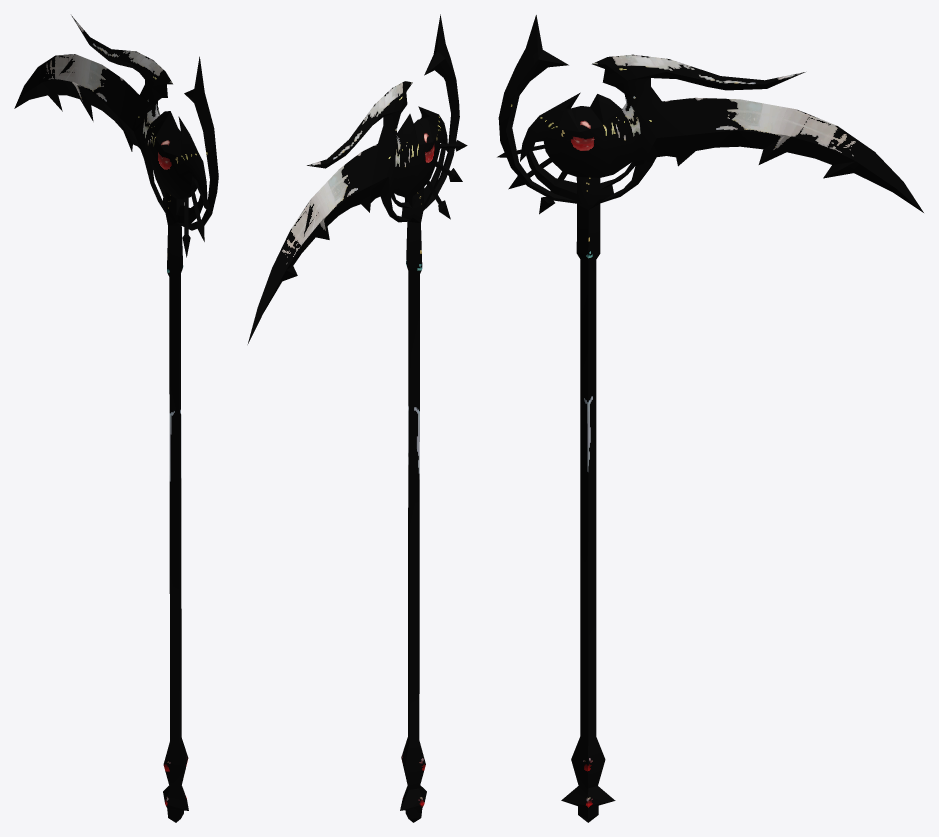
Rendered from lddj_94509068.glb.
The picture shows the model from 3 angles, left to right: view 1: azimuth 30°, elevation 25°; view 2: azimuth 150°, elevation 25°; view 3: azimuth 270°, elevation 25°; orthographic projection. The views are drawn at different scales.
Size of the model in its own units: 0.1507 by 3.99 by 1.91.
Materials: 1 (1 with a texture image).
